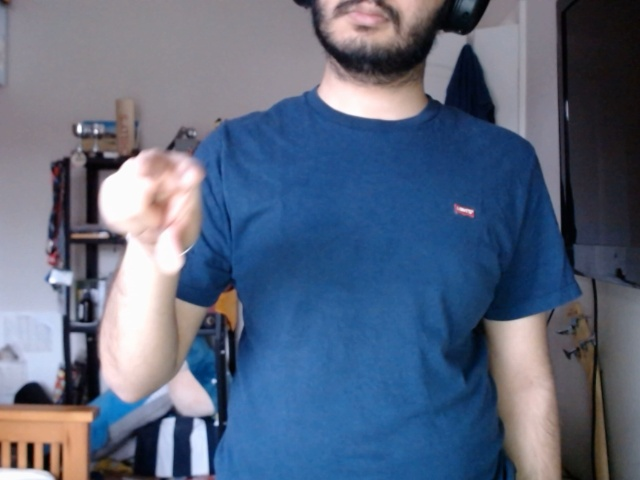No: (78, 127, 215, 307)
